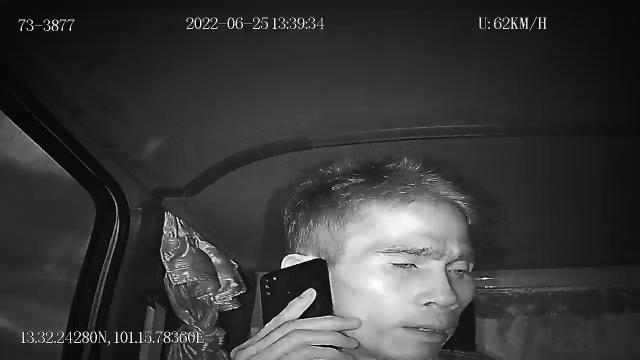PhoneUse: (260, 257, 334, 333)
SafeDriving: (438, 256, 482, 283)
